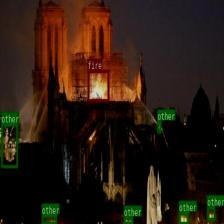fire: (87, 69, 109, 102)
